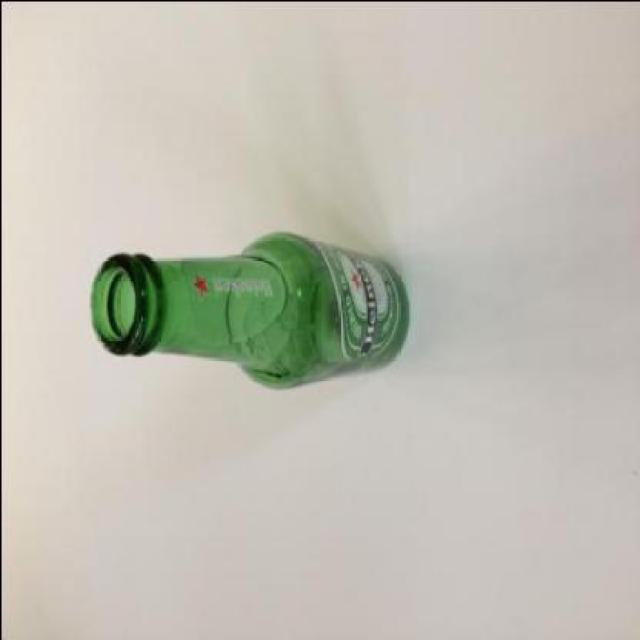glass: (88, 230, 408, 384)
